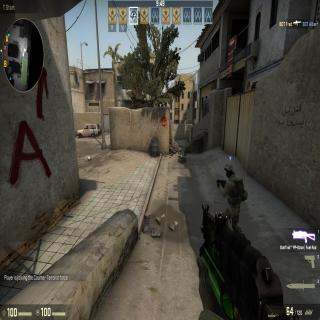CT-Body: (216, 161, 246, 233)
CT-Head: (224, 162, 236, 180)
